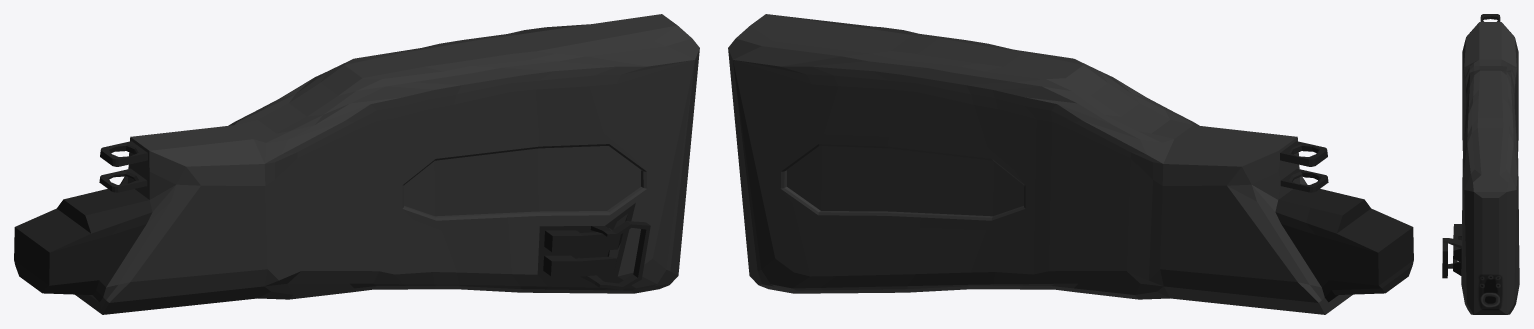
File: ButtOfTheWeaponPolymer.fbx
3 renders of one model, left to right at view 1: azimuth 30°, elevation 25°; view 2: azimuth 150°, elevation 25°; view 3: azimuth 270°, elevation 25°, orthographic. The views are drawn at different scales.
Visible parts, largest first — view 1: ButtOfTheWeaponPolymer; view 2: ButtOfTheWeaponPolymer; view 3: ButtOfTheWeaponPolymer.
Boxes of the visible parts, bbox=[...] form: ButtOfTheWeaponPolymer: bbox=[14, 14, 699, 314]; ButtOfTheWeaponPolymer: bbox=[728, 14, 1413, 314]; ButtOfTheWeaponPolymer: bbox=[1442, 14, 1519, 314].
Size of the model in its own units: 60.78 by 24.51 by 10.67.
